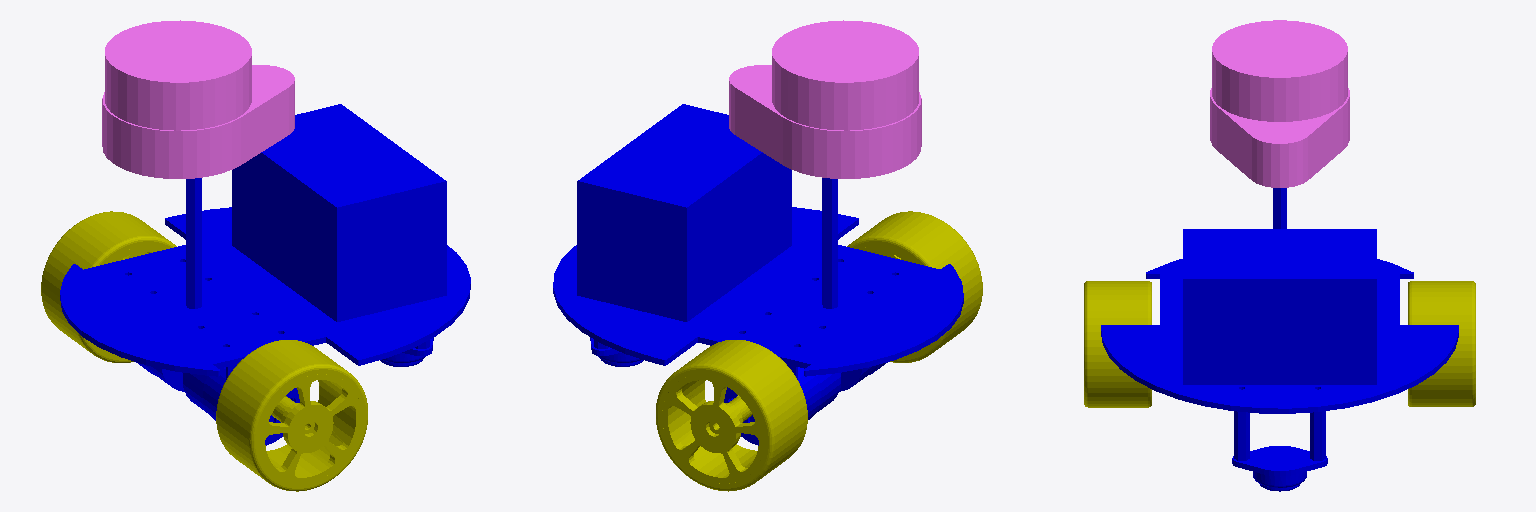
robot.urdf — mbot_description:
<?xml version="1.0" encoding="utf-8"?>
<!-- This URDF was automatically created by SolidWorks to URDF Exporter! Originally created by [author] ([email redacted]) 
     Commit Version: 1.5.1-0-g916b5db  Build Version: 1.5.7152.31018
     For more information, please see http://wiki.ros.org/sw_urdf_exporter -->
<robot
  name="mbot_description">
  <link
    name="base_link">
    <inertial>
      <origin
        xyz="0.054502 3.0092E-08 0.03823"
        rpy="0 0 0" />
      <mass
        value="0.55781" />
      <inertia
        ixx="0.0010536"
        ixy="-1.0524E-10"
        ixz="-0.00034992"
        iyy="0.0013054"
        iyz="1.3362E-10"
        izz="0.0014142" />
    </inertial>
    <visual>
      <origin
        xyz="0 0 0"
        rpy="0 0 0" />
      <geometry>
        <mesh
          filename="package://mbot_description/meshes/base_link.STL" />
      </geometry>
      <material
        name="">
        <color
          rgba="0 0 1 1" />
      </material>
    </visual>
    <collision>
      <origin
        xyz="0 0 0"
        rpy="0 0 0" />
      <geometry>
        <mesh
          filename="package://mbot_description/meshes/base_link.STL" />
      </geometry>
    </collision>
  </link>
  <link
    name="left_wheel_link">
    <inertial>
      <origin
        xyz="1.6258E-11 0.0011484 1.0045E-11"
        rpy="0 0 0" />
      <mass
        value="0.14183" />
      <inertia
        ixx="6.9596E-05"
        ixy="3.2338E-14"
        ixz="4.9289E-10"
        iyy="0.00010882"
        iyz="2.7988E-14"
        izz="6.9596E-05" />
    </inertial>
    <visual>
      <origin
        xyz="0 0 0"
        rpy="0 0 0" />
      <geometry>
        <mesh
          filename="package://mbot_description/meshes/left_wheel_link.STL" />
      </geometry>
      <material
        name="">
        <color
          rgba="0.75294 0.75294 0 1" />
      </material>
    </visual>
    <collision>
      <origin
        xyz="0 0 0"
        rpy="0 0 0" />
      <geometry>
        <mesh
          filename="package://mbot_description/meshes/left_wheel_link.STL" />
      </geometry>
    </collision>
  </link>
  <joint
    name="left_wheel_joint"
    type="continuous">
    <origin
      xyz="0 0.083 0"
      rpy="0 0 0" />
    <parent
      link="base_link" />
    <child
      link="left_wheel_link" />
    <axis
      xyz="0 1 0" />
  </joint>
  <link
    name="right_wheel_link">
    <inertial>
      <origin
        xyz="-2.1963E-12 -0.0011484 1.8984E-11"
        rpy="0 0 0" />
      <mass
        value="0.14183" />
      <inertia
        ixx="6.9596E-05"
        ixy="-1.9148E-15"
        ixz="4.9264E-10"
        iyy="0.00010882"
        iyz="-4.2725E-14"
        izz="6.9596E-05" />
    </inertial>
    <visual>
      <origin
        xyz="0 0 0"
        rpy="0 0 0" />
      <geometry>
        <mesh
          filename="package://mbot_description/meshes/right_wheel_link.STL" />
      </geometry>
      <material
        name="">
        <color
          rgba="0.75294 0.75294 0 1" />
      </material>
    </visual>
    <collision>
      <origin
        xyz="0 0 0"
        rpy="0 0 0" />
      <geometry>
        <mesh
          filename="package://mbot_description/meshes/right_wheel_link.STL" />
      </geometry>
    </collision>
  </link>
  <joint
    name="right_wheel_joint"
    type="continuous">
    <origin
      xyz="0 -0.083 0"
      rpy="0 0 0" />
    <parent
      link="base_link" />
    <child
      link="right_wheel_link" />
    <axis
      xyz="0 1 0" />
  </joint>
  <link
    name="caster_link">
    <inertial>
      <origin
        xyz="-1.3878E-17 5.3578E-20 3.4694E-18"
        rpy="0 0 0" />
      <mass
        value="0.0014368" />
      <inertia
        ixx="2.816E-08"
        ixy="0"
        ixz="4.0783E-56"
        iyy="2.816E-08"
        iyz="-3.6734E-40"
        izz="2.816E-08" />
    </inertial>
    <visual>
      <origin
        xyz="0 0 0"
        rpy="0 0 0" />
      <geometry>
        <mesh
          filename="package://mbot_description/meshes/caster_link.STL" />
      </geometry>
      <material
        name="">
        <color
          rgba="1 0 0 1" />
      </material>
    </visual>
    <collision>
      <origin
        xyz="0 0 0"
        rpy="0 0 0" />
      <geometry>
        <mesh
          filename="package://mbot_description/meshes/caster_link.STL" />
      </geometry>
    </collision>
  </link>
  <joint
    name="caster_joint"
    type="fixed">
    <origin
      xyz="0.10754 0 -0.0255"
      rpy="0 0 0" />
    <parent
      link="base_link" />
    <child
      link="caster_link" />
    <axis
      xyz="1 0 0" />
  </joint>
  <link
    name="laser_link">
    <inertial>
      <origin
        xyz="0.0047654 9.587E-19 -0.014165"
        rpy="0 0 0" />
      <mass
        value="0.22205" />
      <inertia
        ixx="0.00011188"
        ixy="1.0393E-21"
        ixz="1.1446E-05"
        iyy="0.00015129"
        iyz="7.0121E-21"
        izz="0.00017193" />
    </inertial>
    <visual>
      <origin
        xyz="0 0 0"
        rpy="0 0 0" />
      <geometry>
        <mesh
          filename="package://mbot_description/meshes/laser_link.STL" />
      </geometry>
      <material
        name="">
        <color
          rgba="1 0.50196 1 1" />
      </material>
    </visual>
    <collision>
      <origin
        xyz="0 0 0"
        rpy="0 0 0" />
      <geometry>
        <mesh
          filename="package://mbot_description/meshes/laser_link.STL" />
      </geometry>
    </collision>
  </link>
  <joint
    name="lidar_joint"
    type="fixed">
    <origin
      xyz="-0.0145 0 0.14775"
      rpy="0 0 0" />
    <parent
      link="base_link" />
    <child
      link="laser_link" />
    <axis
      xyz="0 0 0" />
  </joint>
</robot>

--- Facts derived from the render (not from the file) ---
Views: 3 orthographic renders of the robot side by side, from view 1: azimuth 30°, elevation 25°; view 2: azimuth 150°, elevation 25°; view 3: azimuth 270°, elevation 25°.
Model mbot_description with 5 links and 4 joints (2 continuous, 2 fixed), rooted at base_link, posed all joints at 0.
Visible links, largest first — view 1: base_link, laser_link, right_wheel_link, left_wheel_link; view 2: base_link, laser_link, left_wheel_link, right_wheel_link; view 3: base_link, laser_link, right_wheel_link, left_wheel_link.
Boxes of the visible links, left/top/right/bottom form: base_link: left=60, top=104, right=470, bottom=445; laser_link: left=102, top=20, right=294, bottom=178; right_wheel_link: left=216, top=340, right=367, bottom=491; left_wheel_link: left=41, top=211, right=176, bottom=362; base_link: left=553, top=104, right=963, bottom=445; laser_link: left=729, top=20, right=921, bottom=178; left_wheel_link: left=656, top=340, right=807, bottom=491; right_wheel_link: left=847, top=211, right=982, bottom=362; base_link: left=1101, top=188, right=1458, bottom=491; laser_link: left=1210, top=20, right=1349, bottom=187; right_wheel_link: left=1084, top=281, right=1151, bottom=407; left_wheel_link: left=1408, top=281, right=1475, bottom=406.
Bounding box of the posed robot: 0.1984 × 0.201 × 0.1928 m (x, y, z).
Meshes: 5 distinct files referenced, 5 mesh visuals loaded (5 binary STL).